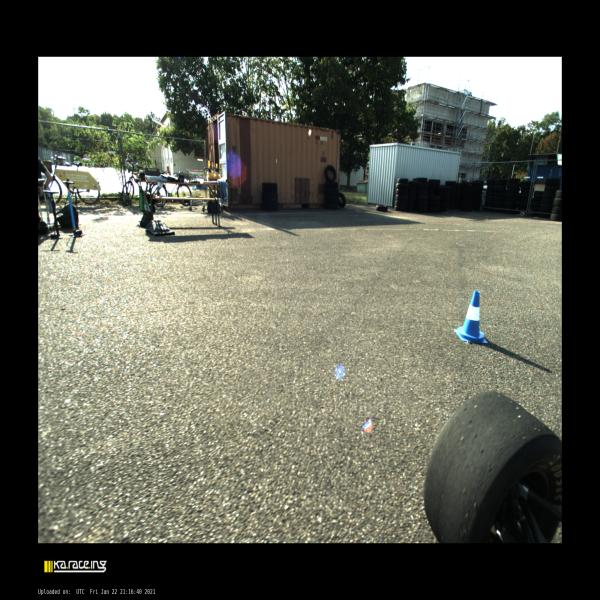blue_cone: (454, 291, 488, 343)
yellow_cone: (214, 163, 220, 178), (207, 165, 213, 177)
